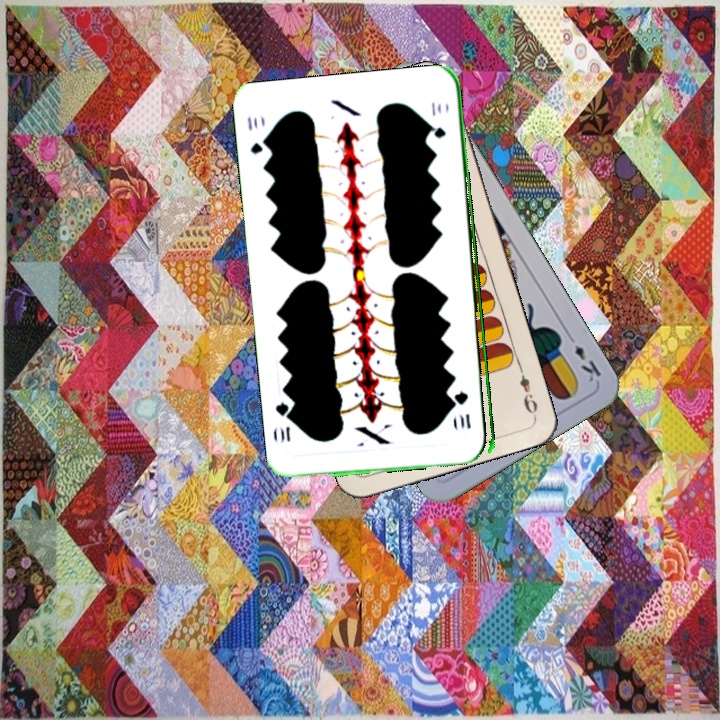E9: (514, 361, 540, 420)
EK: (563, 329, 604, 385)
G10: (243, 114, 271, 157), (454, 387, 473, 431)
